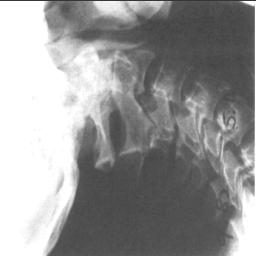cancer: (47, 36, 136, 134)
